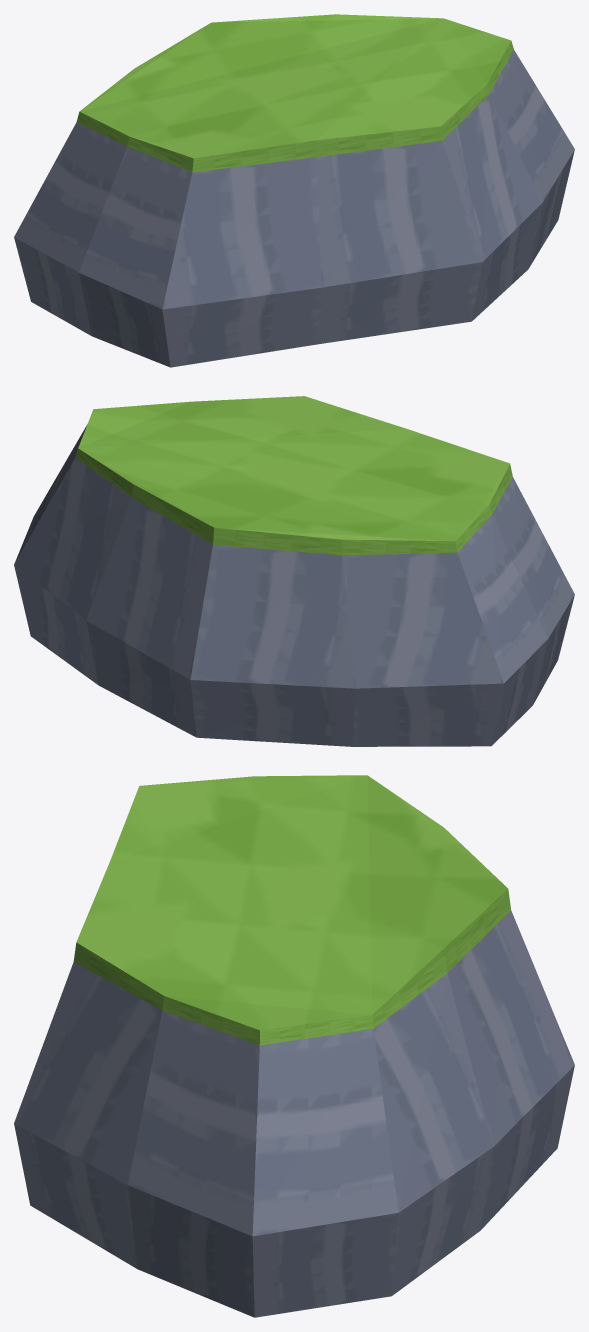
The model's file is island.glb.
The picture shows the model from 3 angles, top to bottom: view 1: azimuth 30°, elevation 25°; view 2: azimuth 150°, elevation 25°; view 3: azimuth 270°, elevation 25°; orthographic projection. The views are drawn at different scales.
Parts seen in each view (by area): view 1: beach_island; view 2: beach_island; view 3: beach_island.
Part boxes in pixels (left/top/right/bottom): beach_island: left=14, top=14, right=574, bottom=367; beach_island: left=14, top=396, right=574, bottom=746; beach_island: left=14, top=775, right=574, bottom=1317.
Bounding box in the file's own units: 10 × 3.6 × 7.
2 materials, 2 textured.
